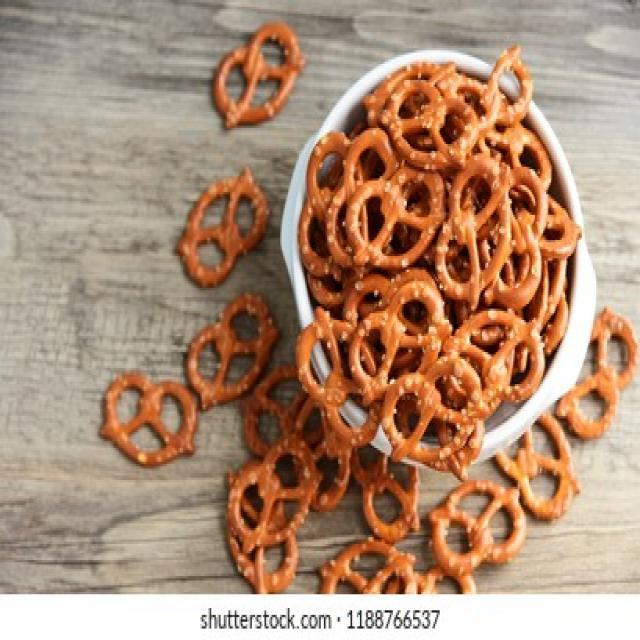Salatini: (293, 48, 578, 462)
